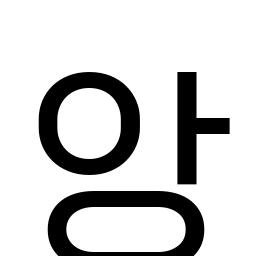Gaji: (165, 101, 216, 150)
